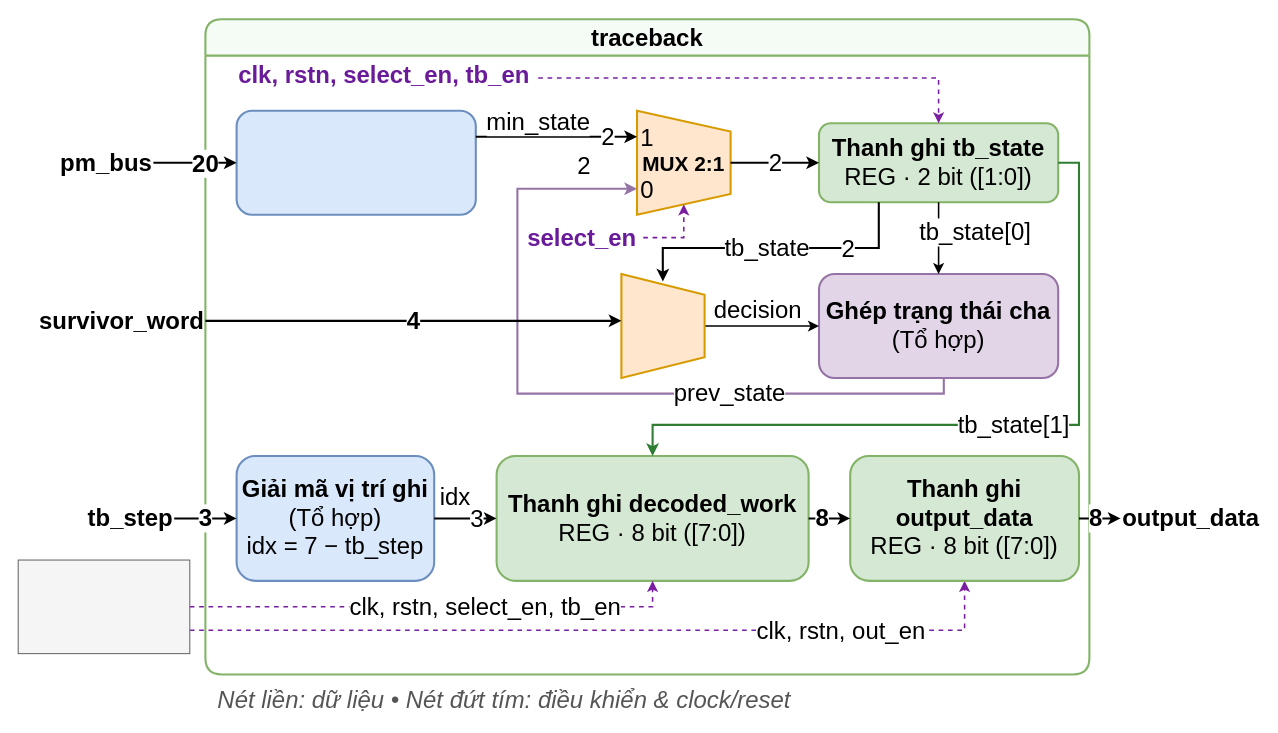
This 1278x733 diagram has some shape labels left out. The shapes that lost their labels are listed below. From the top down, each one's centre as x and y in pixels, then its label:
point 355,162: Cây so sánh Min-PM
point 662,325: MUX 4:1
point 103,606: clk, rstn select_en tb_en, out_en
